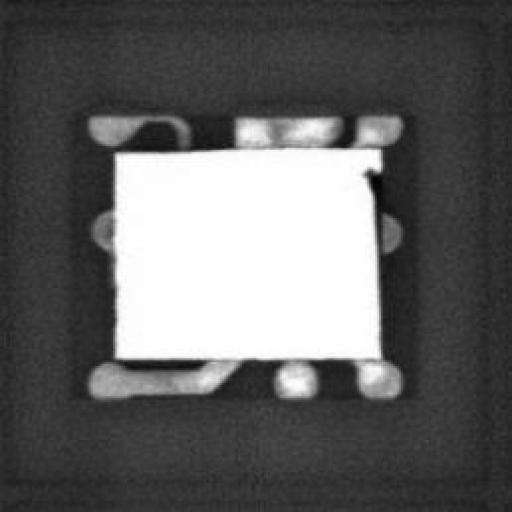DIE_BROKEN: (361, 163, 381, 239)
